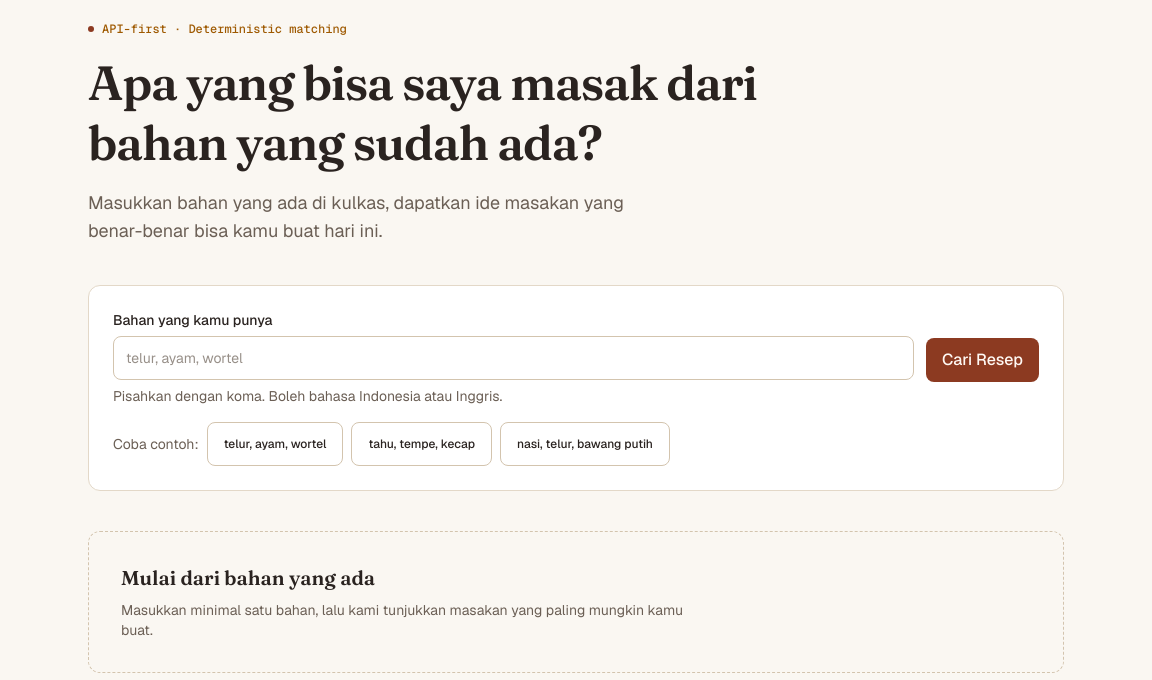
Scenario: Halaman utama › submit menghubungkan input ke hook dan menampilkan hasil
The image size is (1152, 680).
Step 1. Type "telur, ayam" into the field labelled "Bahan yang kamu punya" → (513, 358), box [113,336,914,380]
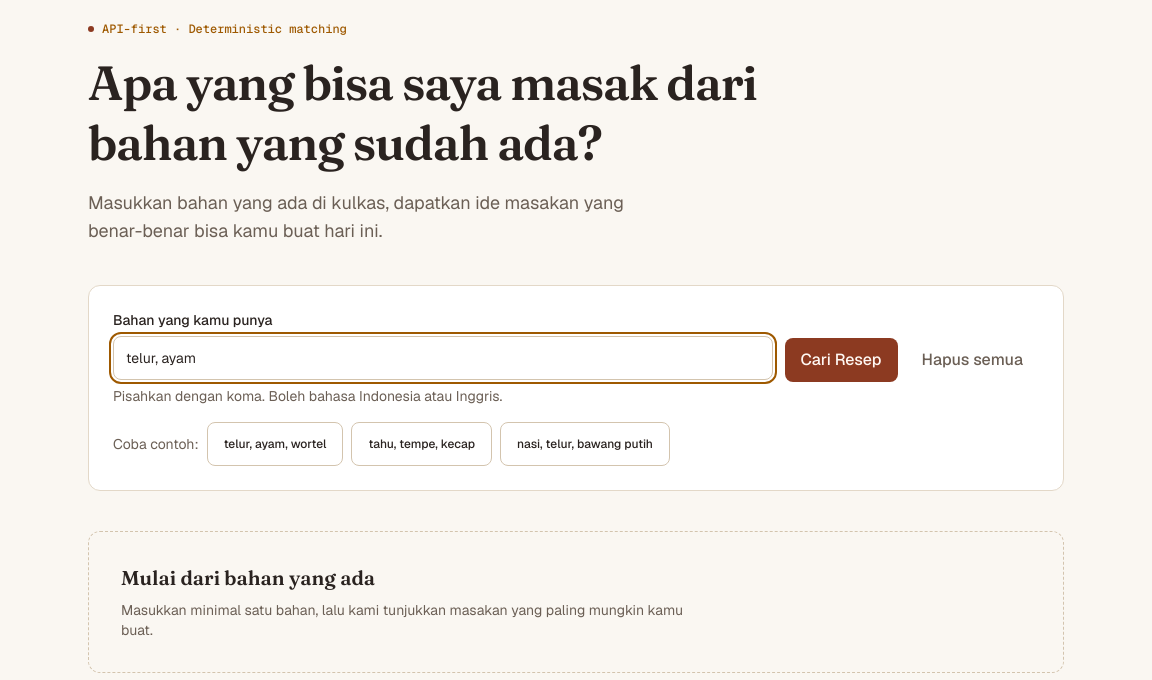
Step 2. Click the button "Cari Resep" → (841, 360), box [784,338,898,382]
(page scrolled)
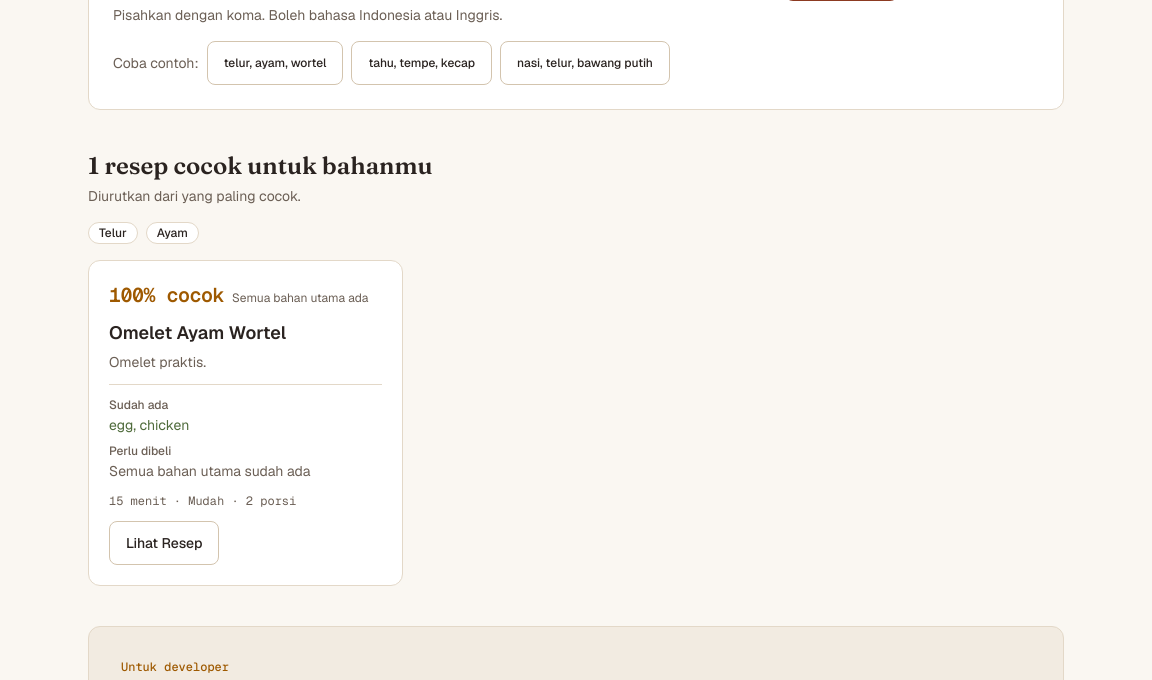
Now the heading "1 resep cocok untuk bahanmu" is shown, box [88,151,433,180]
Now the heading "Omelet Ayam Wortel" is shown, box [109,321,286,344]
